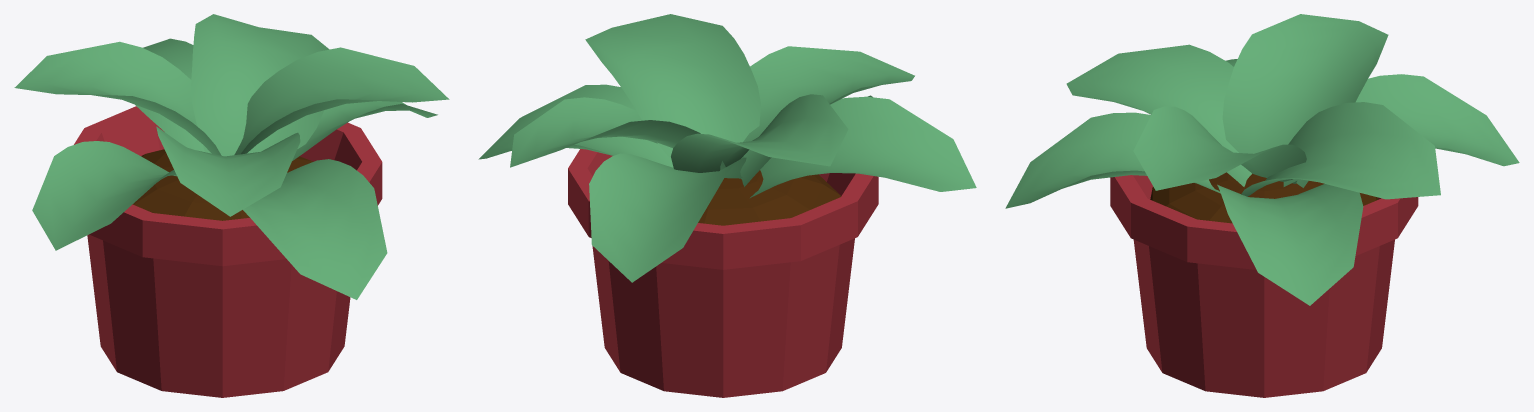
File: msh_plants_03.fbx
3 renders of one model, left to right at view 1: azimuth 30°, elevation 25°; view 2: azimuth 150°, elevation 25°; view 3: azimuth 270°, elevation 25°, orthographic. The views are drawn at different scales.
Visible parts, largest first — view 1: pCylinder8, pPlane172, pPlane32, pPlane31, pPlane28, pPlane33, pPlane34, pSphere15, pPlane30, pPlane29; view 2: pCylinder8, pPlane31, pPlane29, pPlane28, pPlane34, pPlane33, pPlane32, pSphere15, pPlane30; view 3: pCylinder8, pPlane33, pPlane30, pPlane32, pPlane34, pPlane31, pPlane172, pPlane29, pSphere15.
Part boxes in pixels (x1=…): pCylinder8: x1=74, y1=106, x2=382, y2=397; pPlane172: x1=243, y1=159, x2=387, y2=299; pPlane32: x1=191, y1=14, x2=329, y2=156; pPlane31: x1=234, y1=47, x2=449, y2=154; pPlane28: x1=32, y1=141, x2=176, y2=250; pPlane33: x1=14, y1=41, x2=221, y2=155; pPlane34: x1=156, y1=126, x2=300, y2=216; pSphere15: x1=132, y1=149, x2=313, y2=220; pPlane30: x1=292, y1=101, x2=437, y2=160; pPlane29: x1=135, y1=38, x2=204, y2=151; pCylinder8: x1=568, y1=149, x2=878, y2=397; pPlane31: x1=585, y1=14, x2=760, y2=159; pPlane29: x1=589, y1=153, x2=746, y2=282; pPlane28: x1=750, y1=96, x2=976, y2=197; pPlane34: x1=740, y1=46, x2=914, y2=186; pPlane33: x1=671, y1=94, x2=848, y2=172; pPlane32: x1=510, y1=97, x2=725, y2=170; pSphere15: x1=698, y1=170, x2=841, y2=225; pPlane30: x1=478, y1=84, x2=673, y2=167; pCylinder8: x1=1110, y1=175, x2=1418, y2=397; pPlane33: x1=1222, y1=14, x2=1388, y2=187; pPlane30: x1=1217, y1=184, x2=1363, y2=305; pPlane32: x1=1241, y1=102, x2=1440, y2=199; pPlane34: x1=1066, y1=44, x2=1251, y2=186; pPlane31: x1=1133, y1=106, x2=1306, y2=190; pPlane172: x1=1005, y1=112, x2=1220, y2=208; pPlane29: x1=1283, y1=74, x2=1519, y2=186; pSphere15: x1=1150, y1=172, x2=1378, y2=223.
Bounding box in the file's own units: 1.03 × 0.6218 × 1.08.
